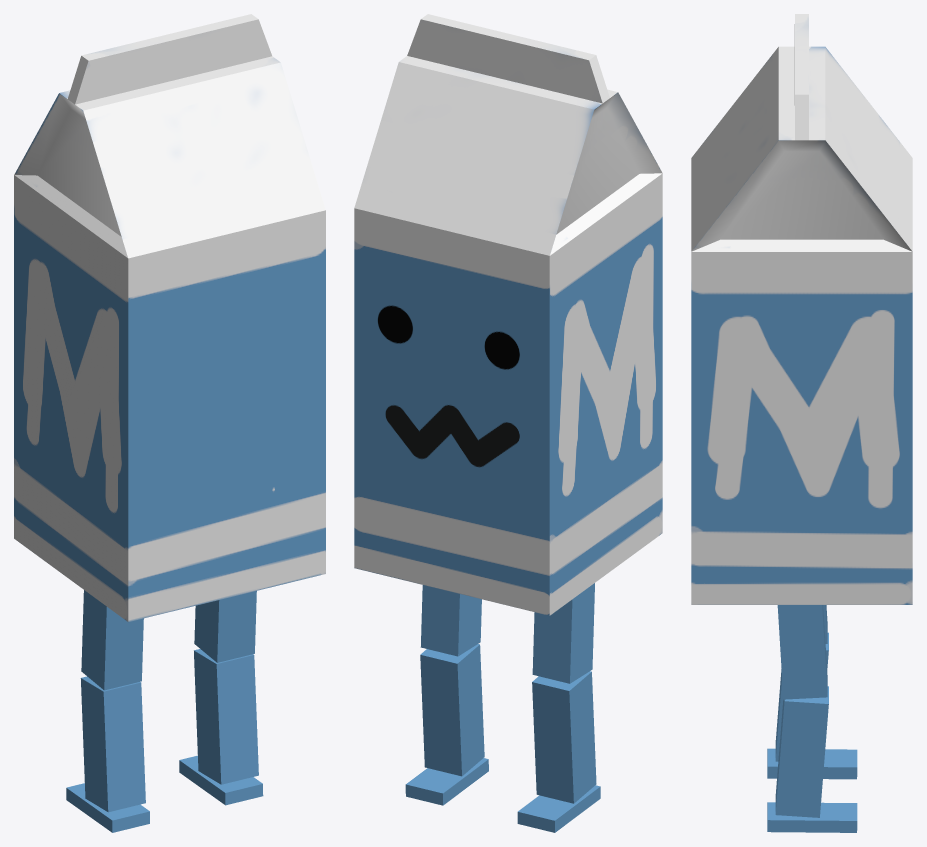
The model's file is moo_juice.fbx.
3 renders of one model, left to right at view 1: azimuth 30°, elevation 25°; view 2: azimuth 150°, elevation 25°; view 3: azimuth 270°, elevation 25°, orthographic. The views are drawn at different scales.
Parts seen in each view (by area): view 1: pCube7; view 2: pCube7; view 3: pCube7.
Part boxes in pixels (box(x1,y1,x2,y2)): pCube7: box(14, 14, 325, 832); pCube7: box(354, 14, 662, 832); pCube7: box(691, 14, 912, 832).
Bounding box in the file's own units: 42.85 × 159 × 42.85.
